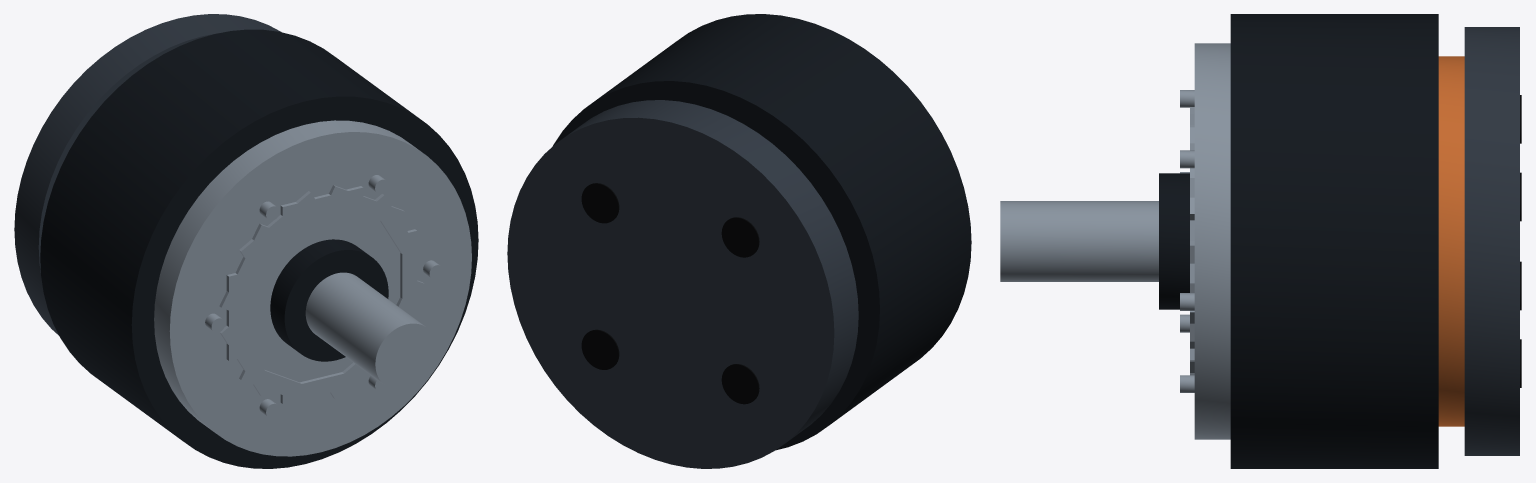
The model's file is hobbywing-xrotor-2207.glb.
3 views of the same model, side by side, from view 1: azimuth 30°, elevation 25°; view 2: azimuth 150°, elevation 25°; view 3: azimuth 270°, elevation 25° (orthographic). The views are drawn at different scales.
Parts seen in each view (by area): view 1: Hobbywing_XRotor_2207_5SL_1780KV_spec_model; view 2: Hobbywing_XRotor_2207_5SL_1780KV_spec_model; view 3: Hobbywing_XRotor_2207_5SL_1780KV_spec_model.
Boxes of the visible parts, box(x1,y1,x2,y2) form: Hobbywing_XRotor_2207_5SL_1780KV_spec_model: box(14, 14, 478, 468); Hobbywing_XRotor_2207_5SL_1780KV_spec_model: box(507, 14, 971, 468); Hobbywing_XRotor_2207_5SL_1780KV_spec_model: box(1000, 14, 1521, 468).
Bounding box in the file's own units: 0.028 × 0.028 × 0.032.
